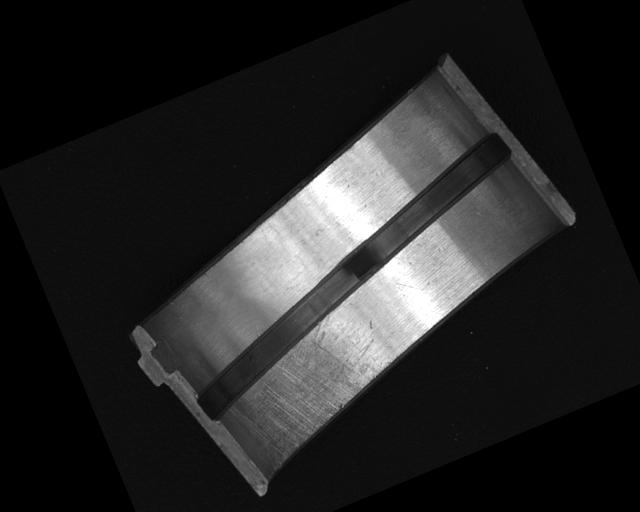gap: (145, 127, 563, 424)
scratch: (217, 301, 403, 471)
